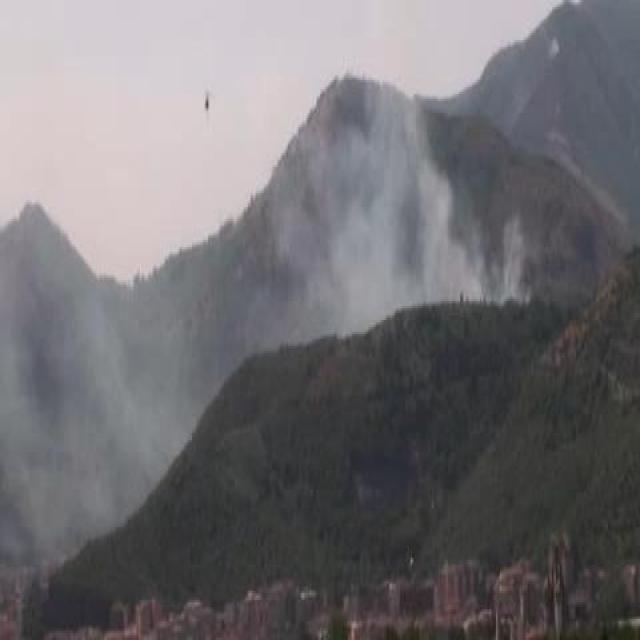Smoke: (274, 126, 527, 316), (24, 312, 189, 504)
